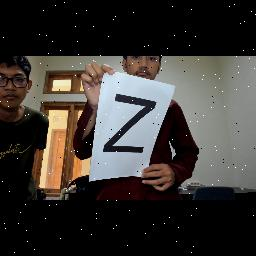z: (103, 87, 159, 155)
